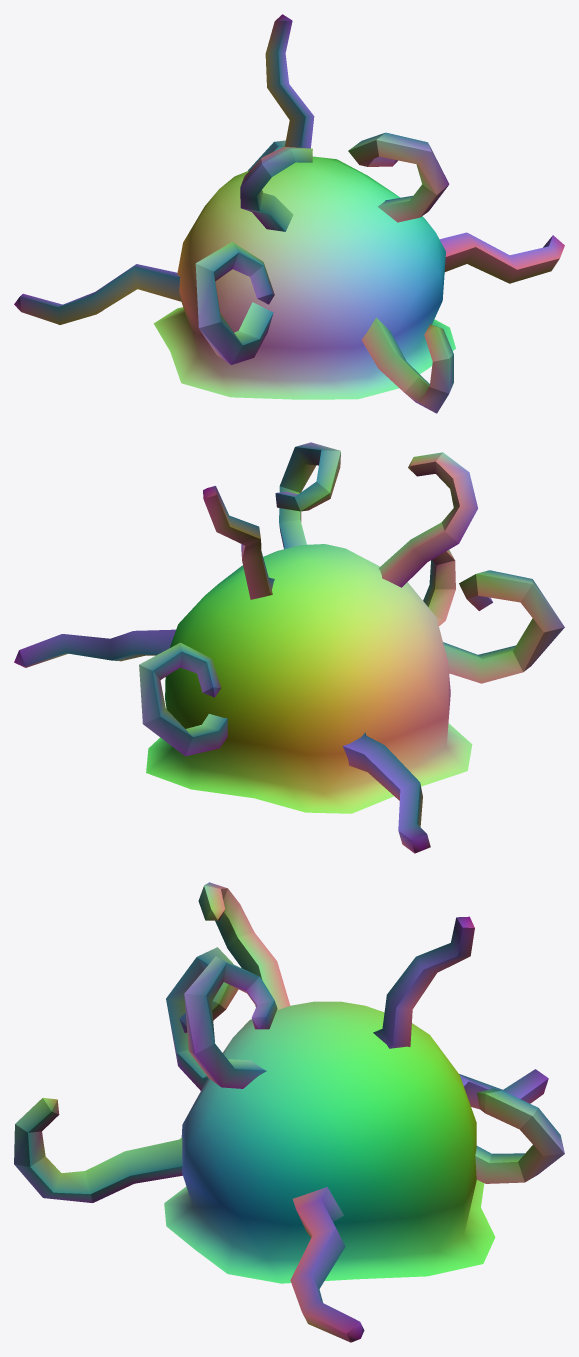
Rendered from Blob_UI.fbx.
The picture shows the model from 3 angles, top to bottom: view 1: azimuth 30°, elevation 25°; view 2: azimuth 150°, elevation 25°; view 3: azimuth 270°, elevation 25°; orthographic projection. The views are drawn at different scales.
Visible parts, largest first — view 1: Blob, Tentackle2, Tentackle1, Tentackle7, Tentackle4, Tentackle, Tentackle6, Tentackle3; view 2: Blob, Tentackle2, Tentackle5, Tentackle3, Tentackle7, Tentackle4, Tentackle, Tentackle6, Tentackle1; view 3: Blob, Tentackle1, Tentackle7, Tentackle, Tentackle5, Tentackle6, Tentackle3, Tentackle2, Tentackle4.
Part boxes in pixels (left/top/right/bottom): Blob: left=153, top=156, right=455, bottom=399; Tentackle2: left=195, top=242, right=274, bottom=364; Tentackle1: left=361, top=317, right=453, bottom=413; Tentackle7: left=348, top=132, right=449, bottom=222; Tentackle4: left=14, top=264, right=182, bottom=324; Tentackle: left=439, top=232, right=564, bottom=283; Tentackle6: left=265, top=14, right=314, bottom=148; Tentackle3: left=240, top=147, right=312, bottom=231; Blob: left=146, top=544, right=472, bottom=813; Tentackle2: left=443, top=570, right=564, bottom=683; Tentackle5: left=139, top=642, right=227, bottom=756; Tentackle3: left=378, top=452, right=477, bottom=587; Tentackle7: left=275, top=442, right=340, bottom=549; Tentackle4: left=343, top=732, right=430, bottom=853; Tentackle: left=14, top=629, right=175, bottom=667; Tentackle6: left=203, top=486, right=274, bottom=599; Tentackle1: left=423, top=550, right=455, bottom=625; Blob: left=164, top=1001, right=495, bottom=1283; Tentackle1: left=14, top=1098, right=182, bottom=1202; Tentackle7: left=184, top=956, right=277, bottom=1088; Tentackle: left=290, top=1187, right=364, bottom=1342; Tentackle5: left=475, top=1088, right=564, bottom=1183; Tentackle6: left=373, top=916, right=474, bottom=1048; Tentackle3: left=198, top=882, right=290, bottom=1010; Tentackle2: left=166, top=947, right=238, bottom=1090; Tentackle4: left=459, top=1069, right=548, bottom=1109.
Bounding box in the file's own units: 423 × 239 × 375.
